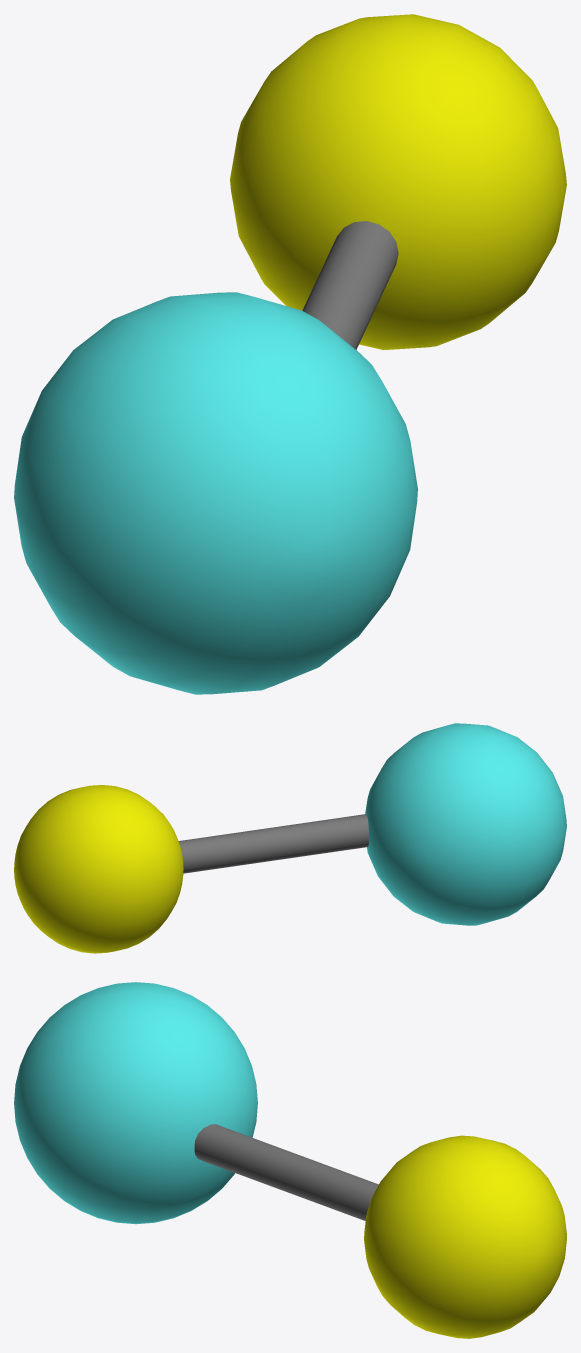
3 views of the same model, one above another, from view 1: azimuth 30°, elevation 25°; view 2: azimuth 150°, elevation 25°; view 3: azimuth 270°, elevation 25° (orthographic). The views are drawn at different scales.
Parts seen in each view (by area): view 1: HS; view 2: HS; view 3: HS.
Boxes of the visible parts, x1,y1,x2,y2 form: HS: [14, 14, 566, 694]; HS: [14, 723, 566, 953]; HS: [14, 982, 566, 1338].
Size of the model in its own units: 4.43 by 2 by 4.53.
